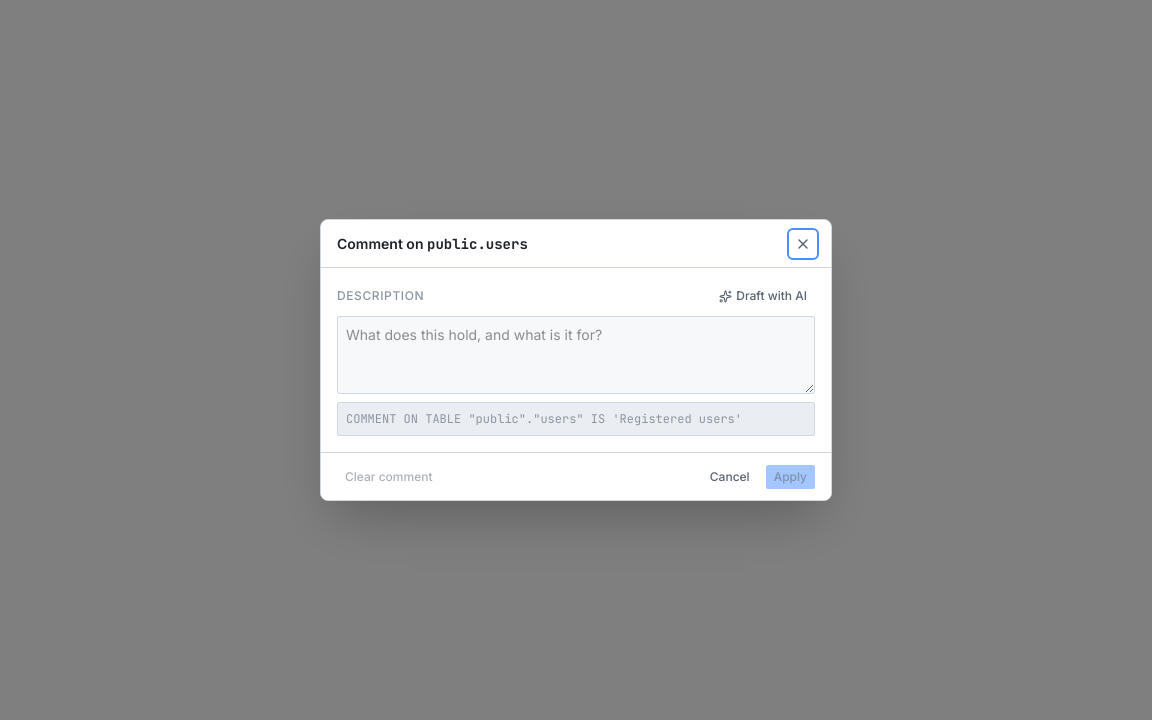
EditCommentModal › surfaces a save failure
In the text box labelled "Description": coordinates (576, 355) [337,316,815,394], type "x"
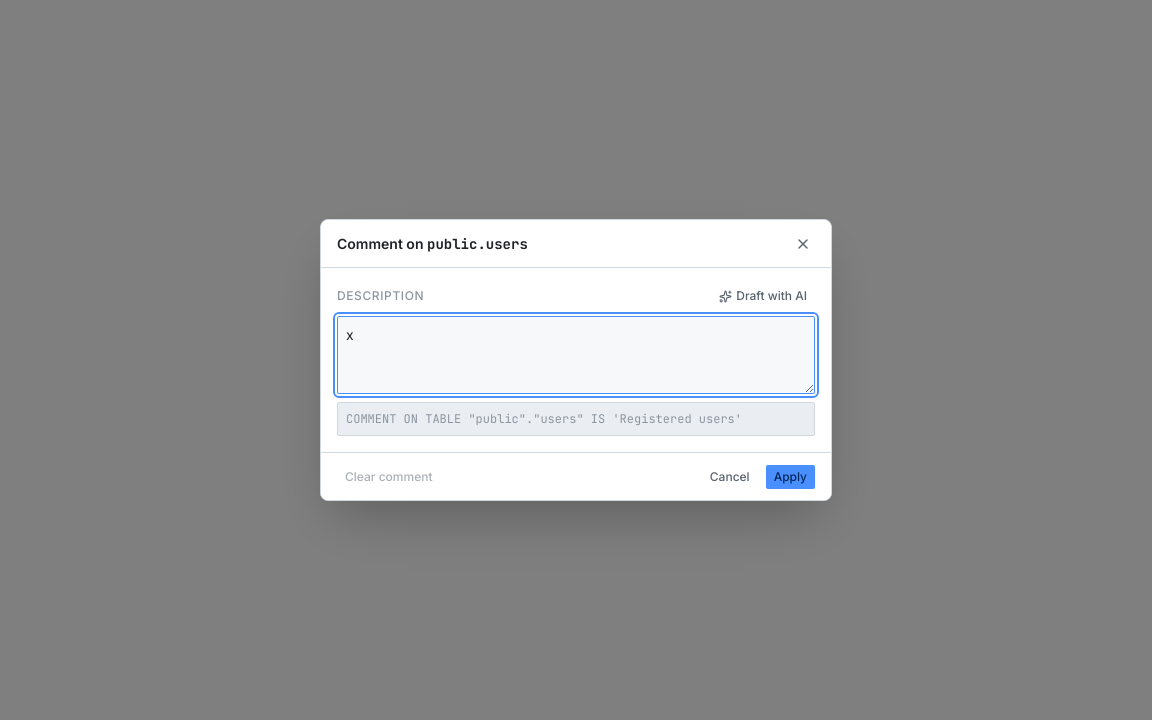
Click the button "Apply": coordinates (790, 476) [766,464,815,488]
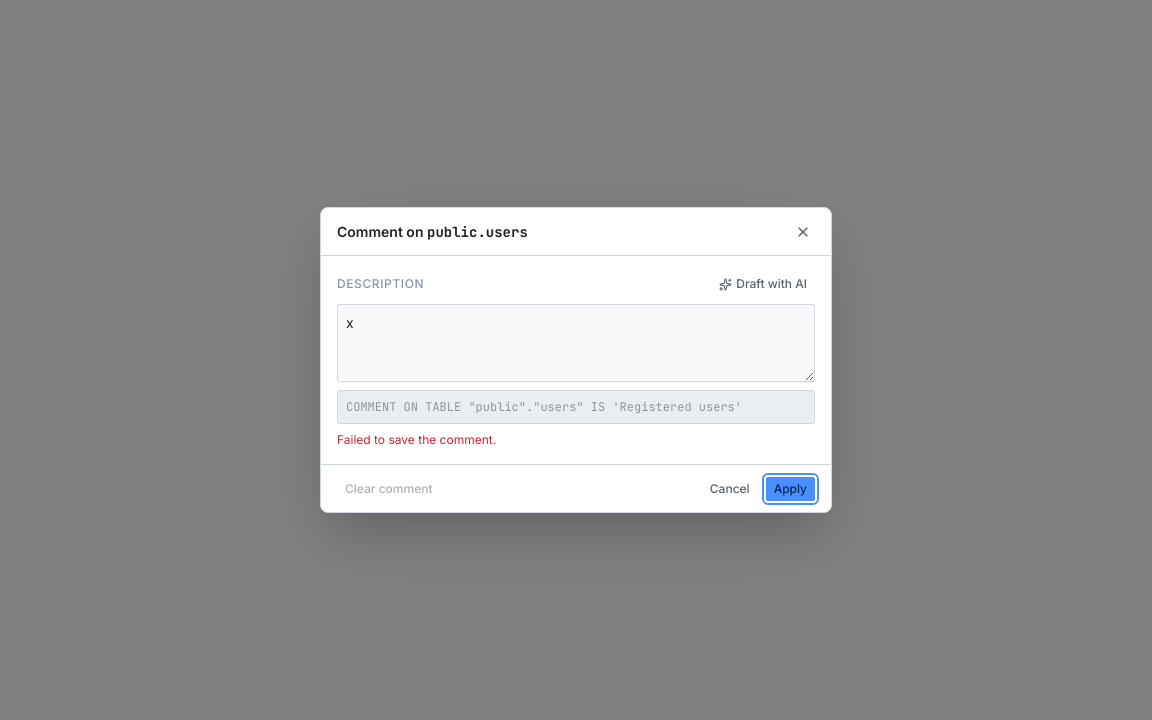
Expected: the message reads "Failed to save the comment.", [337,432,496,447]
